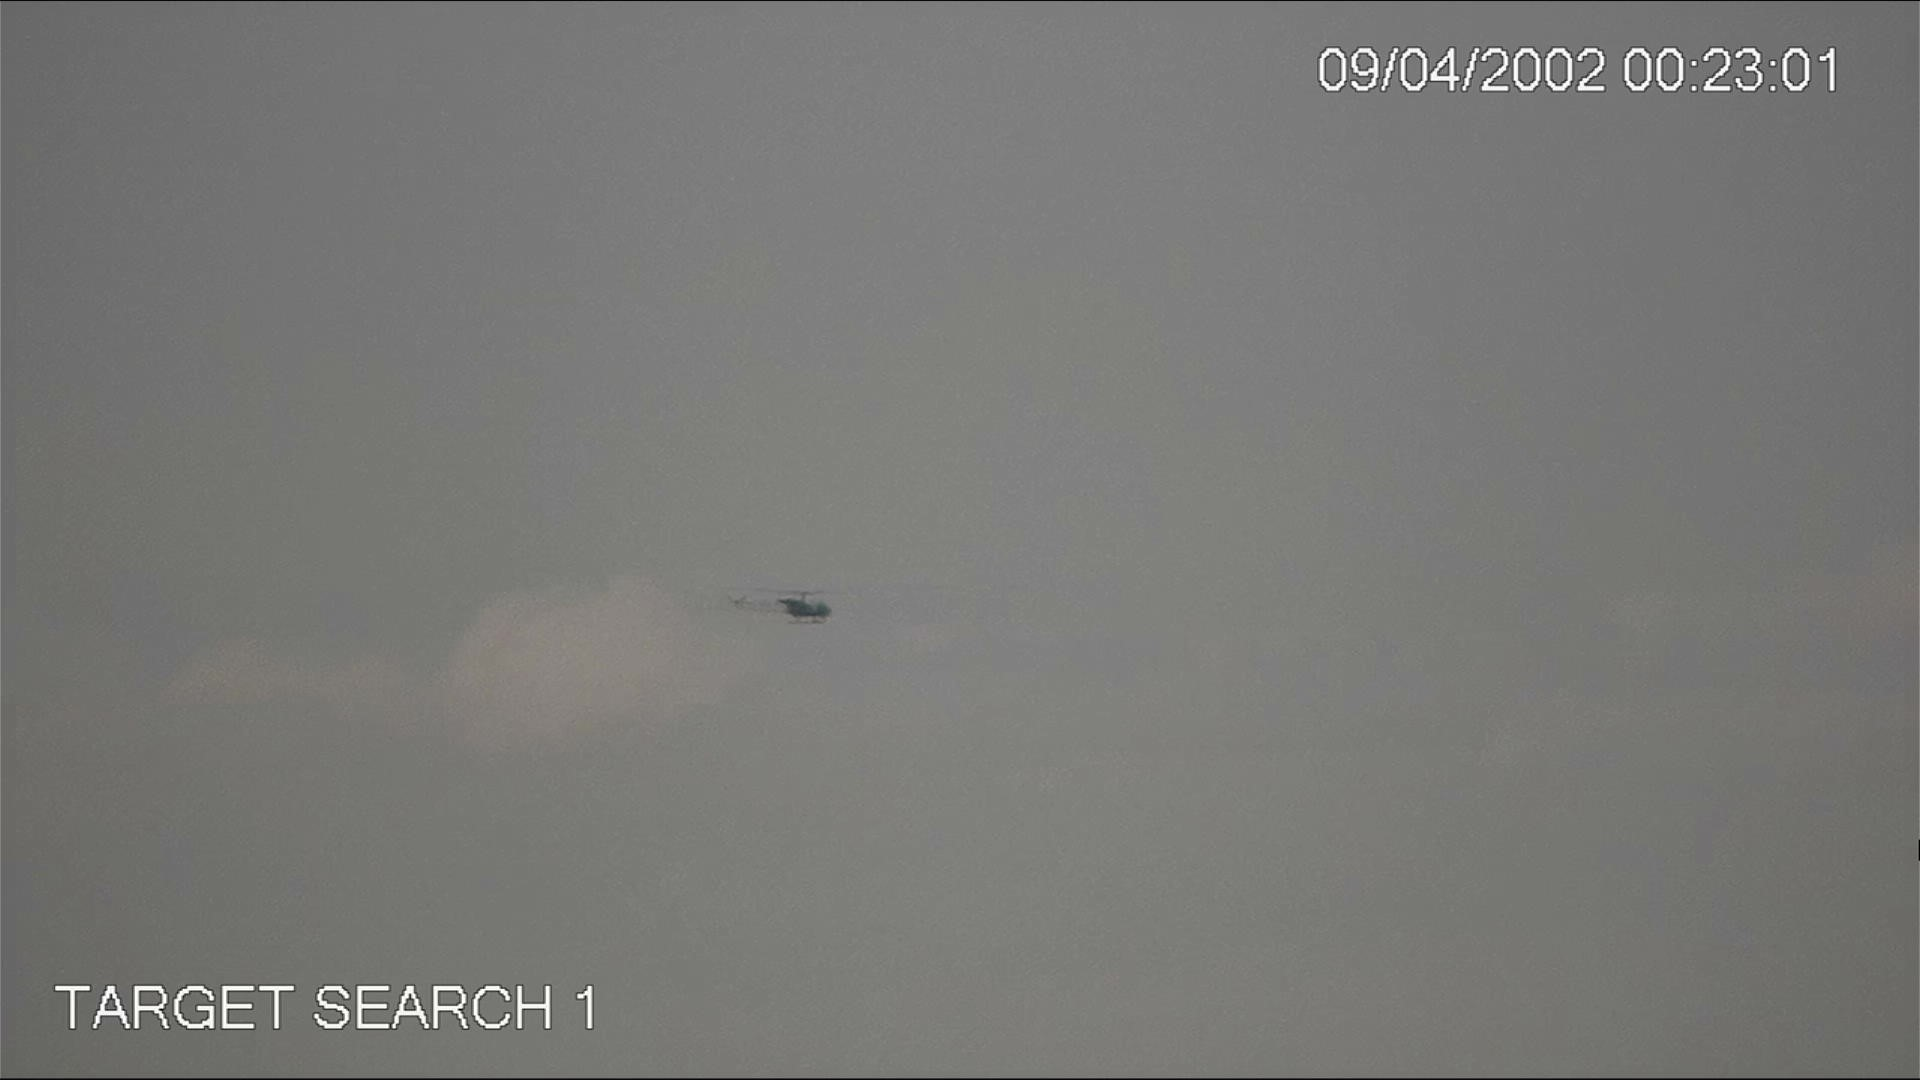SU_30: (731, 591, 833, 625)
